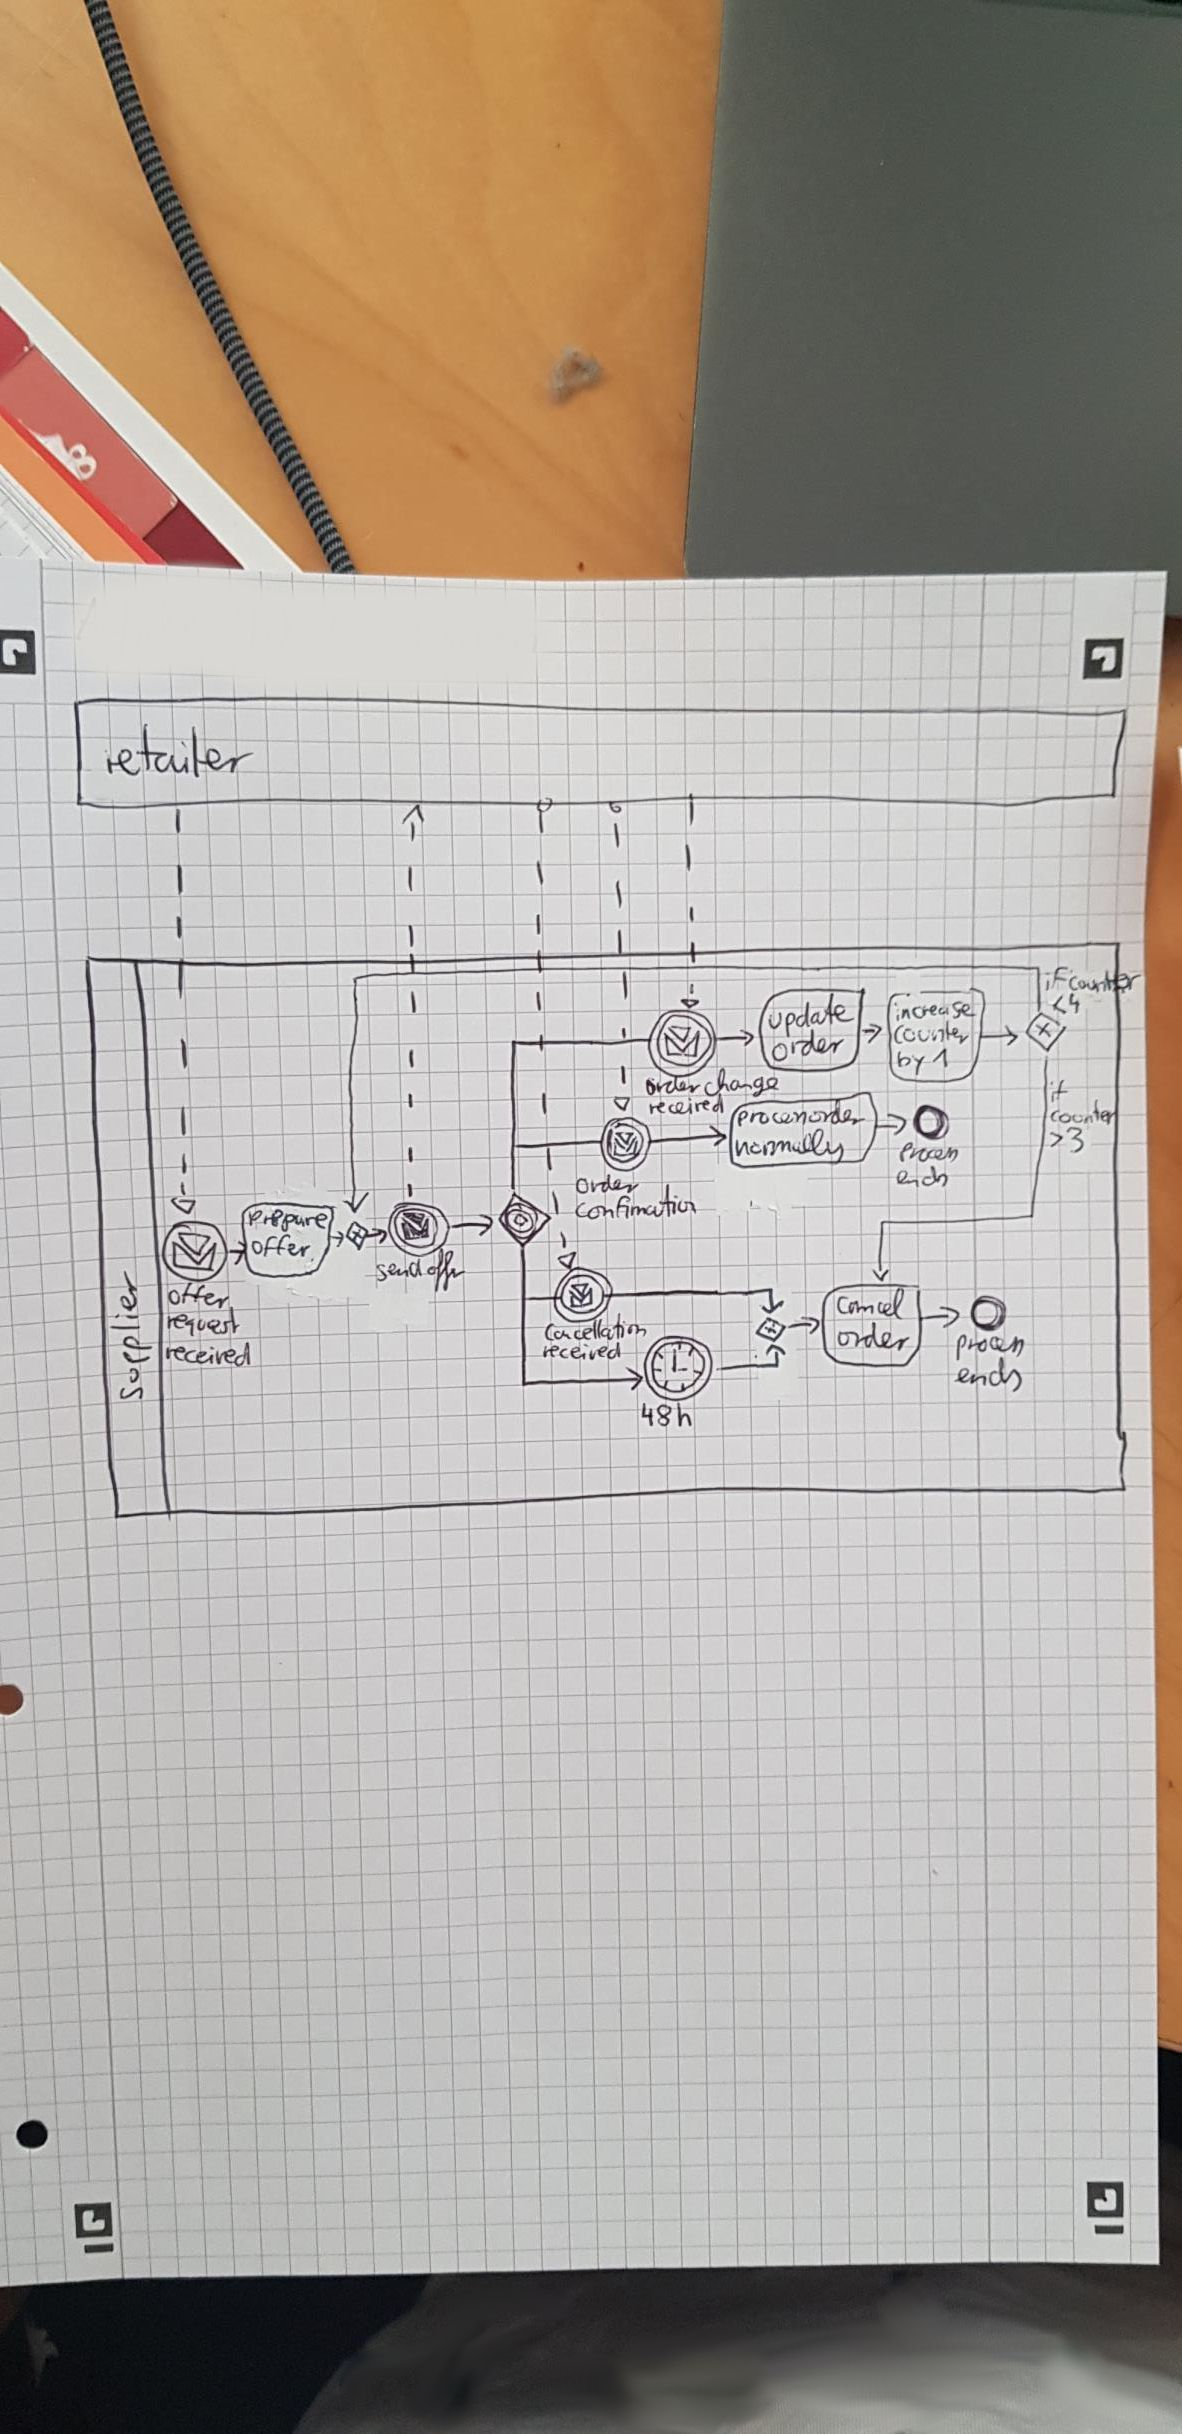1: (930, 1045, 954, 1076)
48h: (632, 1396, 699, 1434)
<4: (1048, 993, 1083, 1011)
>3: (1041, 1125, 1097, 1153)
Prepare: (231, 1205, 328, 1233)
by: (895, 1048, 930, 1070)
cancel: (826, 1295, 920, 1324)
cancellation: (548, 1315, 638, 1347)
change: (704, 1070, 777, 1096)
confirmation: (576, 1198, 697, 1223)
counter: (1059, 969, 1140, 998), (888, 1023, 971, 1046), (1041, 1107, 1114, 1125)
ends: (955, 1363, 1017, 1389), (892, 1164, 954, 1184)
if: (1034, 969, 1061, 997), (1045, 1076, 1069, 1101)
increase: (885, 997, 975, 1026)
normally: (732, 1136, 840, 1163)
offer: (171, 1279, 233, 1310), (408, 1254, 472, 1284), (250, 1237, 309, 1259)
order: (770, 1029, 854, 1063), (836, 1324, 910, 1355), (568, 1174, 641, 1195), (641, 1070, 704, 1091)
process: (952, 1326, 1022, 1357), (898, 1141, 961, 1161)
processorder: (735, 1104, 867, 1129)
received: (162, 1344, 252, 1368), (640, 1094, 727, 1118), (539, 1341, 628, 1361)
request: (163, 1310, 238, 1340)
retailer: (99, 728, 264, 779)
send: (373, 1254, 432, 1284)
supplier: (95, 1265, 163, 1403)
update: (766, 997, 860, 1035)
